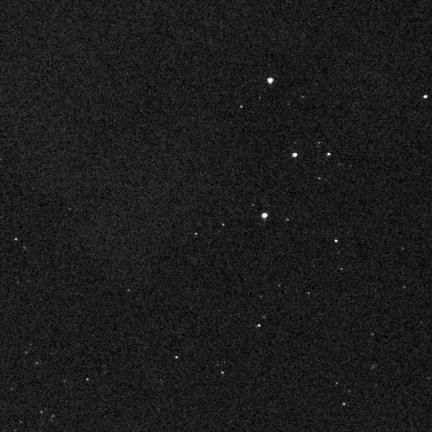blob: (268, 78, 273, 84), (262, 213, 267, 218), (292, 153, 297, 157), (424, 95, 427, 98)
